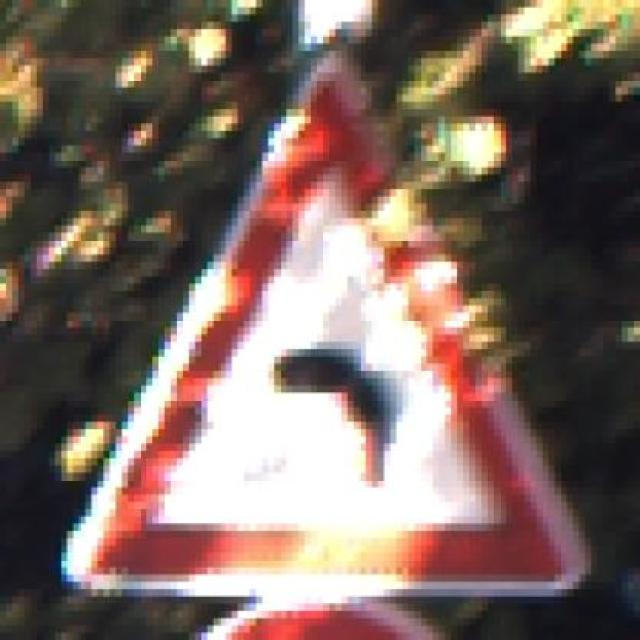Dangerous Left Curve Ahead: (54, 51, 592, 611)
